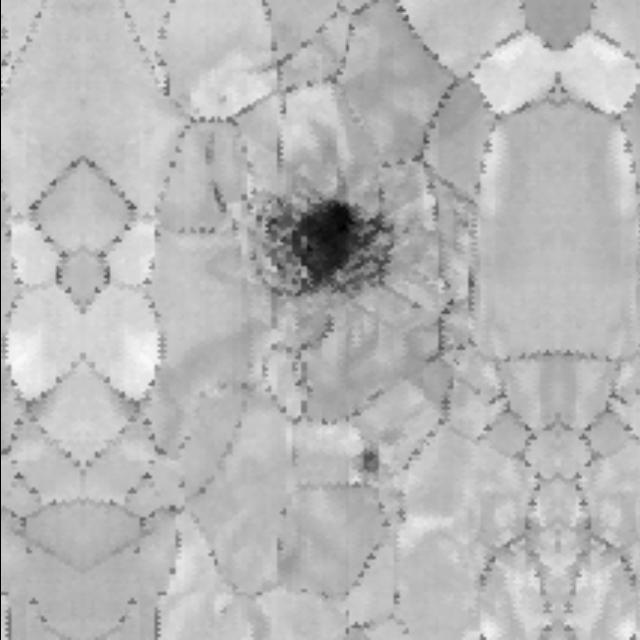good_void: (249, 165, 420, 319), (344, 442, 382, 479), (212, 90, 234, 111)
